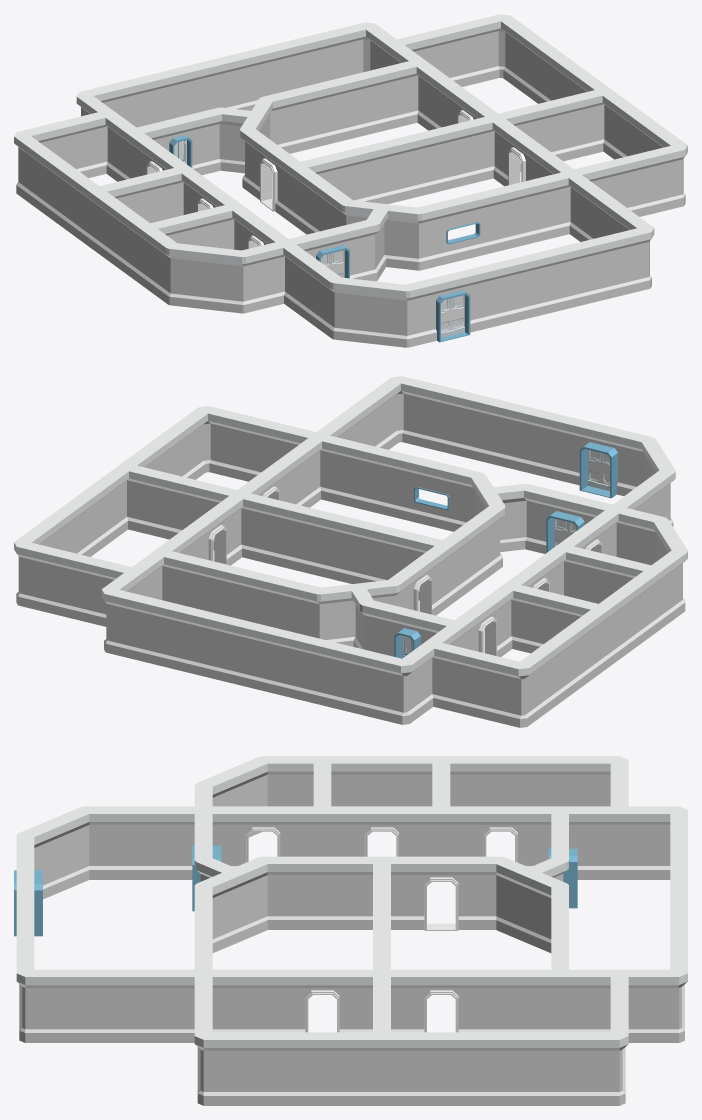
Rendered from interior_1_template.fbx.
3 views of the same model, one above another, from view 1: azimuth 30°, elevation 25°; view 2: azimuth 150°, elevation 25°; view 3: azimuth 270°, elevation 25° (orthographic). The views are drawn at different scales.
Parts seen in each view (by area): view 1: interior_1_template; view 2: interior_1_template; view 3: interior_1_template.
Part boxes in pixels (x1,y1,x2,y2): interior_1_template: [14, 14, 687, 347]; interior_1_template: [14, 376, 687, 727]; interior_1_template: [14, 756, 687, 1105].
Size of the model in its own units: 22.6 by 2.5 by 22.68.
